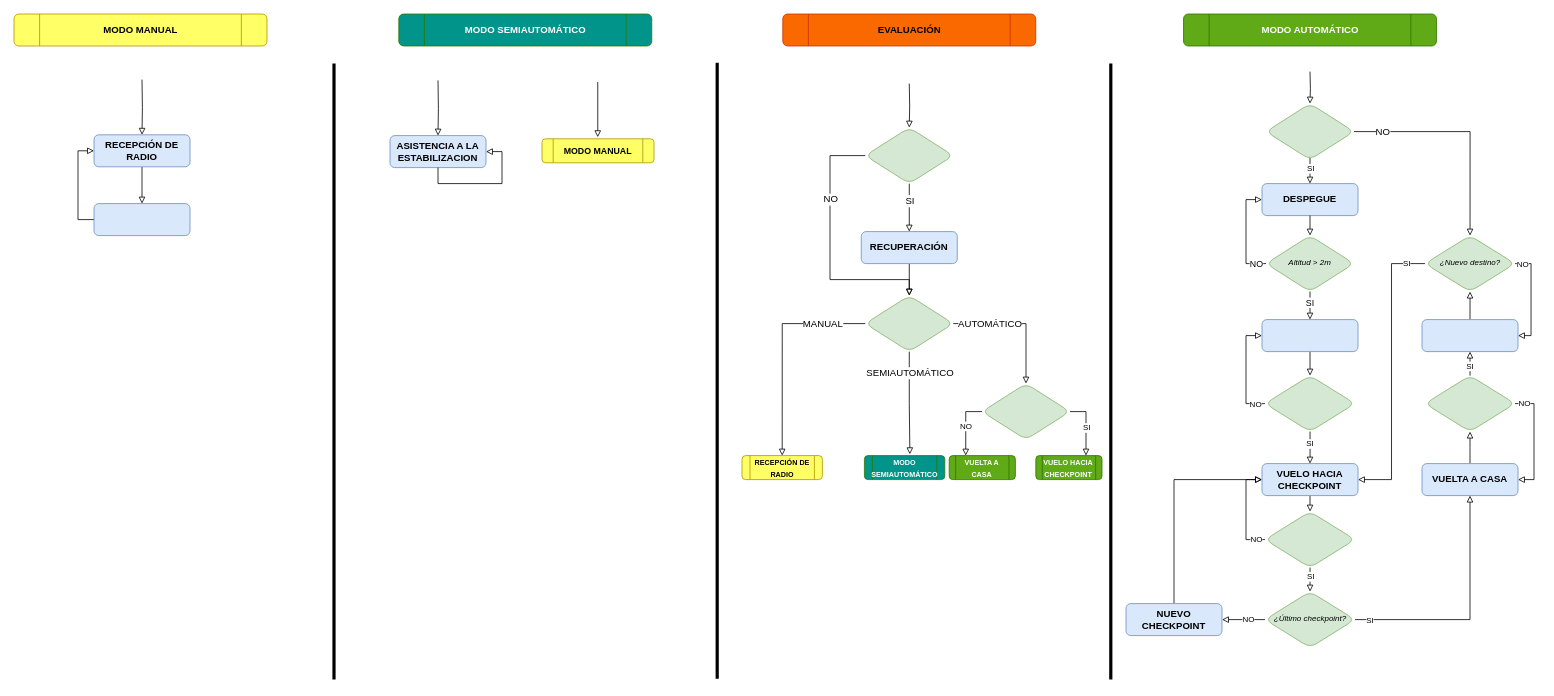
Image size: 1554x696. Some labels were removed from this diagram. Each missing label, with the centre of its shape:
ASCENSIÓN: pixel 1309 335
ORBITA CASA: pixel 1469 335
TRANSFERENCIA A ACTUADORES: pixel 141 219
¿A qué modo?: pixel 908 323
¿Altitud de vuelo alcanzada?: pixel 1309 403
¿Hay checkpoint?: pixel 1025 411
¿Se encuentra en pérdida?: pixel 908 155
¿Se encuentra parado?: pixel 1309 131
¿Ya en casa?: pixel 1469 403
¿Ya en checkpoint?: pixel 1309 539
